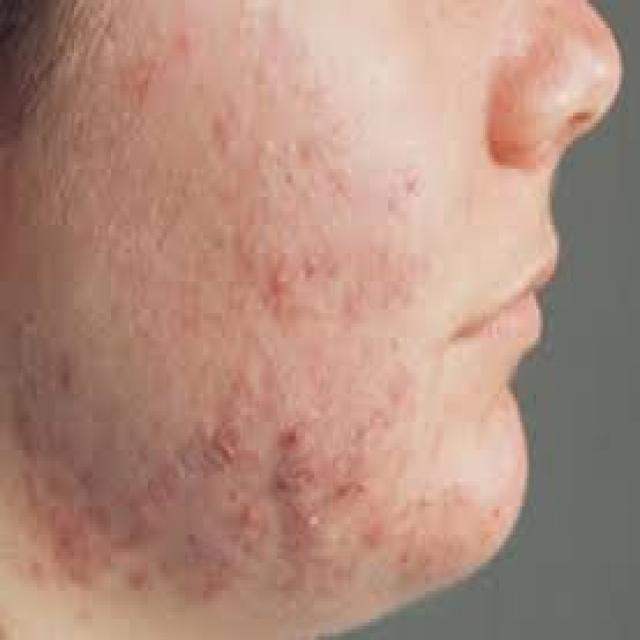Acne: (48, 500, 114, 586), (269, 459, 325, 553), (186, 416, 246, 478), (261, 247, 298, 315), (208, 96, 240, 161), (325, 473, 370, 515), (232, 492, 267, 543), (275, 416, 309, 454), (360, 516, 386, 554)
